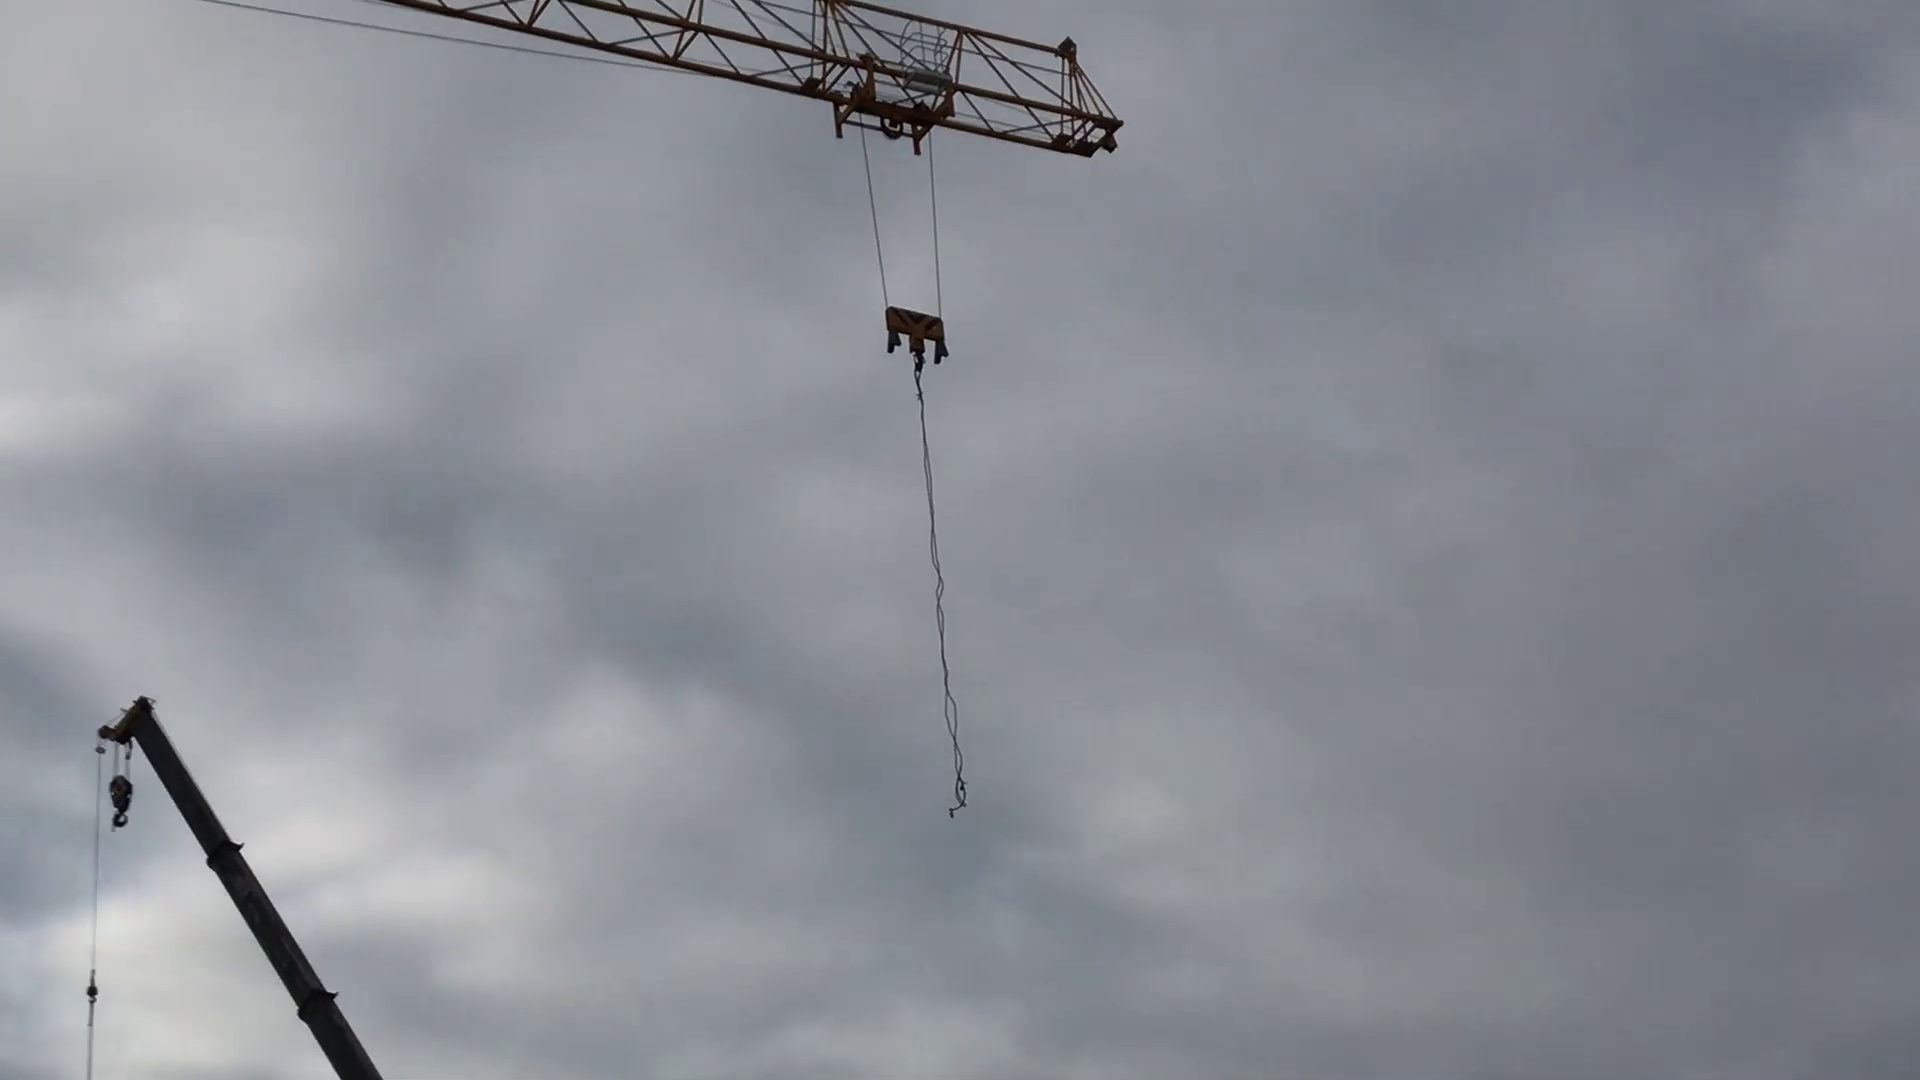hook: (874, 298, 961, 397), (103, 767, 145, 849)
